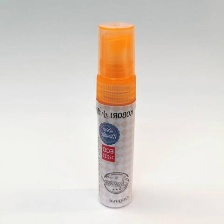cleaning_solution: (94, 18, 140, 210)
